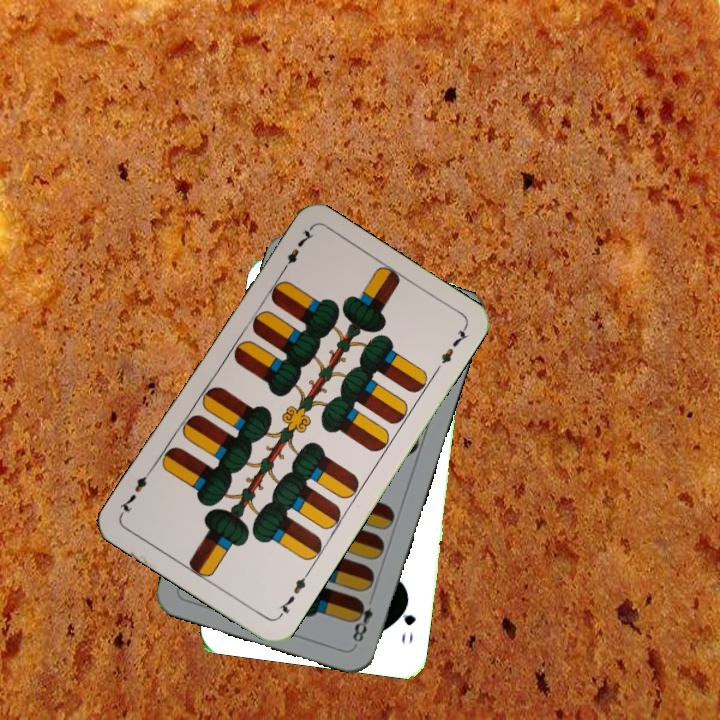E7: (276, 224, 317, 277), (274, 568, 312, 621)
E8: (348, 595, 376, 648)
GO: (396, 593, 418, 646)
